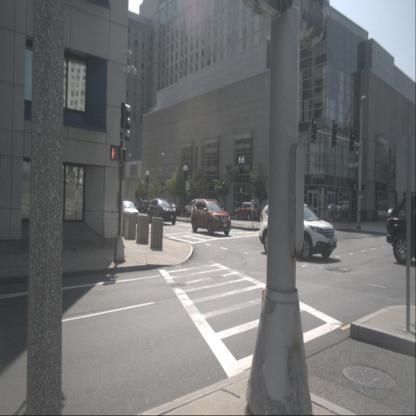human-pedestrian-adult: (328, 199, 334, 223), (138, 196, 144, 213)
vehicle-car: (259, 202, 337, 261), (191, 200, 231, 236), (148, 198, 176, 226), (234, 202, 259, 220), (122, 200, 140, 224), (184, 200, 208, 216), (167, 202, 180, 216), (139, 200, 150, 213)
vehicle-truck: (386, 195, 416, 264)
